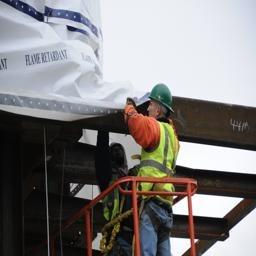hat: (146, 77, 182, 122)
no hat: (104, 138, 134, 173)
vest: (136, 109, 183, 206), (97, 164, 132, 238)
